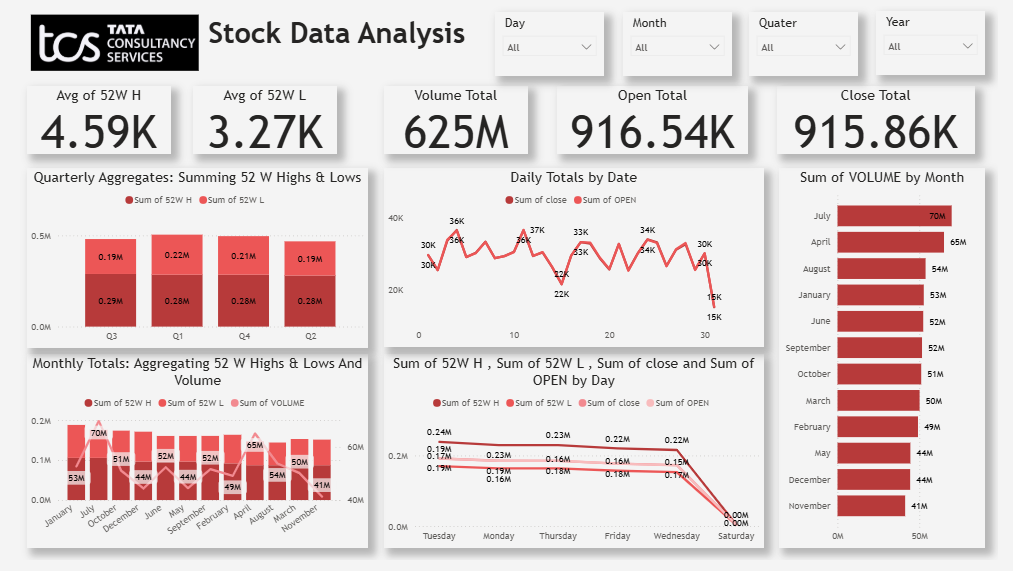

What the dashboard file says about the page in this screenshot:
{"tool":"powerbi","page":{"name":"Page 1","canvas":[1280,720],"ordinal":0},"visuals":[{"type":"slicer","fields":{"Values":["Quote-Equity-TCS-EQ-21-09-2024-to-21-09-2025.Quater"]},"box":[956.7,8.3,141.7,83.3],"z":0},{"type":"slicer","fields":{"Values":["Quote-Equity-TCS-EQ-21-09-2024-to-21-09-2025.Month"]},"box":[793.3,8.3,141.7,83.3],"z":1000},{"type":"slicer","fields":{"Values":["Quote-Equity-TCS-EQ-21-09-2024-to-21-09-2025.Day"]},"box":[626.7,8.3,141.7,83.3],"z":2000},{"type":"slicer","fields":{"Values":["Quote-Equity-TCS-EQ-21-09-2024-to-21-09-2025.Year"]},"box":[1121.7,6.7,142,83.3],"z":3000},{"type":"card","title":"Avg of 52W H","fields":{"Values":["Avg(Quote-Equity-TCS-EQ-21-09-2024-to-21-09-2025.52W H )"]},"box":[20,103.3,186.7,88.3],"z":4000},{"type":"card","title":"Avg of 52W L","fields":{"Values":["Avg(Quote-Equity-TCS-EQ-21-09-2024-to-21-09-2025.52W L )"]},"box":[235,103.3,186.7,88.3],"z":5000},{"type":"card","title":"Close Total ","fields":{"Values":["Sum(Quote-Equity-TCS-EQ-21-09-2024-to-21-09-2025.close )"]},"box":[993.3,103.3,256.7,88.3],"z":6000},{"type":"card","title":"Open Total","fields":{"Values":["Sum(Quote-Equity-TCS-EQ-21-09-2024-to-21-09-2025.OPEN )"]},"box":[708.3,103.3,248.3,88.3],"z":7000},{"type":"card","title":"Volume Total","fields":{"Values":["Sum(Quote-Equity-TCS-EQ-21-09-2024-to-21-09-2025.VOLUME )"]},"box":[483.3,103.3,186.7,88.3],"z":8000},{"type":"columnChart","title":"Quarterly Aggregates: Summing 52 W Highs & Lows","fields":{"Y":["Sum(Quote-Equity-TCS-EQ-21-09-2024-to-21-09-2025.52W H )","Sum(Quote-Equity-TCS-EQ-21-09-2024-to-21-09-2025.52W L )"],"Category":["Quote-Equity-TCS-EQ-21-09-2024-to-21-09-2025.Quater"]},"box":[20,210,443,234],"z":9000},{"type":"lineStackedColumnComboChart","title":"Monthly Totals: Aggregating 52 W Highs & Lows And Volume","fields":{"Y":["Sum(Quote-Equity-TCS-EQ-21-09-2024-to-21-09-2025.52W H )","Sum(Quote-Equity-TCS-EQ-21-09-2024-to-21-09-2025.52W L )"],"Category":["Quote-Equity-TCS-EQ-21-09-2024-to-21-09-2025.Month"],"Y2":["Sum(Quote-Equity-TCS-EQ-21-09-2024-to-21-09-2025.VOLUME )"]},"box":[20,451.7,443.3,251.7],"z":10000},{"type":"lineChart","title":"Daily Totals by Date","fields":{"Category":["Quote-Equity-TCS-EQ-21-09-2024-to-21-09-2025.Date.Variation.Date Hierarchy.Day"],"Y":["Sum(Quote-Equity-TCS-EQ-21-09-2024-to-21-09-2025.close )","Sum(Quote-Equity-TCS-EQ-21-09-2024-to-21-09-2025.OPEN )"]},"box":[483.3,210,493.3,233.3],"z":11000},{"type":"lineChart","fields":{"Y":["Sum(Quote-Equity-TCS-EQ-21-09-2024-to-21-09-2025.52W H )","Sum(Quote-Equity-TCS-EQ-21-09-2024-to-21-09-2025.52W L )","Sum(Quote-Equity-TCS-EQ-21-09-2024-to-21-09-2025.close )","Sum(Quote-Equity-TCS-EQ-21-09-2024-to-21-09-2025.OPEN )"],"Category":["Quote-Equity-TCS-EQ-21-09-2024-to-21-09-2025.Day"]},"box":[483.3,451.7,493.3,251.7],"z":12000},{"type":"clusteredBarChart","fields":{"Y":["Sum(Quote-Equity-TCS-EQ-21-09-2024-to-21-09-2025.VOLUME )"],"Category":["Quote-Equity-TCS-EQ-21-09-2024-to-21-09-2025.Month"]},"box":[996.7,210,268.3,493.3],"z":13000},{"type":"image","box":[20,5,228.3,85],"z":14000},{"type":"textbox","box":[211.7,8.3,420,65],"z":15000}]}

Visuals, with their boxes in screenshot pixels (x1, y1, x2, y2), scaled from the page's 1280x720 canvas onto the 1013x571 screenshot:
slicer - Quote-Equity-TCS-EQ-21-09-2024-to-21-09-2025.Quater: crop(757, 7, 869, 73)
slicer - Quote-Equity-TCS-EQ-21-09-2024-to-21-09-2025.Month: crop(628, 7, 740, 73)
slicer - Quote-Equity-TCS-EQ-21-09-2024-to-21-09-2025.Day: crop(496, 7, 608, 73)
slicer - Quote-Equity-TCS-EQ-21-09-2024-to-21-09-2025.Year: crop(888, 5, 1000, 71)
"Avg of 52W H" card: crop(16, 82, 164, 152)
"Avg of 52W L" card: crop(186, 82, 334, 152)
"Close Total " card: crop(786, 82, 989, 152)
"Open Total" card: crop(561, 82, 757, 152)
"Volume Total" card: crop(382, 82, 530, 152)
"Quarterly Aggregates: Summing 52 W Highs & Lows" columnChart: crop(16, 167, 366, 352)
"Monthly Totals: Aggregating 52 W Highs & Lows And Volume" lineStackedColumnComboChart: crop(16, 358, 367, 558)
"Daily Totals by Date" lineChart: crop(382, 167, 773, 352)
lineChart - Sum(Quote-Equity-TCS-EQ-21-09-2024-to-21-09-2025.52W H ) x Sum(Quote-Equity-TCS-EQ-21-09-2024-to-21-09-2025.52W L ): crop(382, 358, 773, 558)
clusteredBarChart - Sum(Quote-Equity-TCS-EQ-21-09-2024-to-21-09-2025.VOLUME ) x Quote-Equity-TCS-EQ-21-09-2024-to-21-09-2025.Month: crop(789, 167, 1001, 558)
image: crop(16, 4, 197, 71)
textbox: crop(168, 7, 500, 58)
